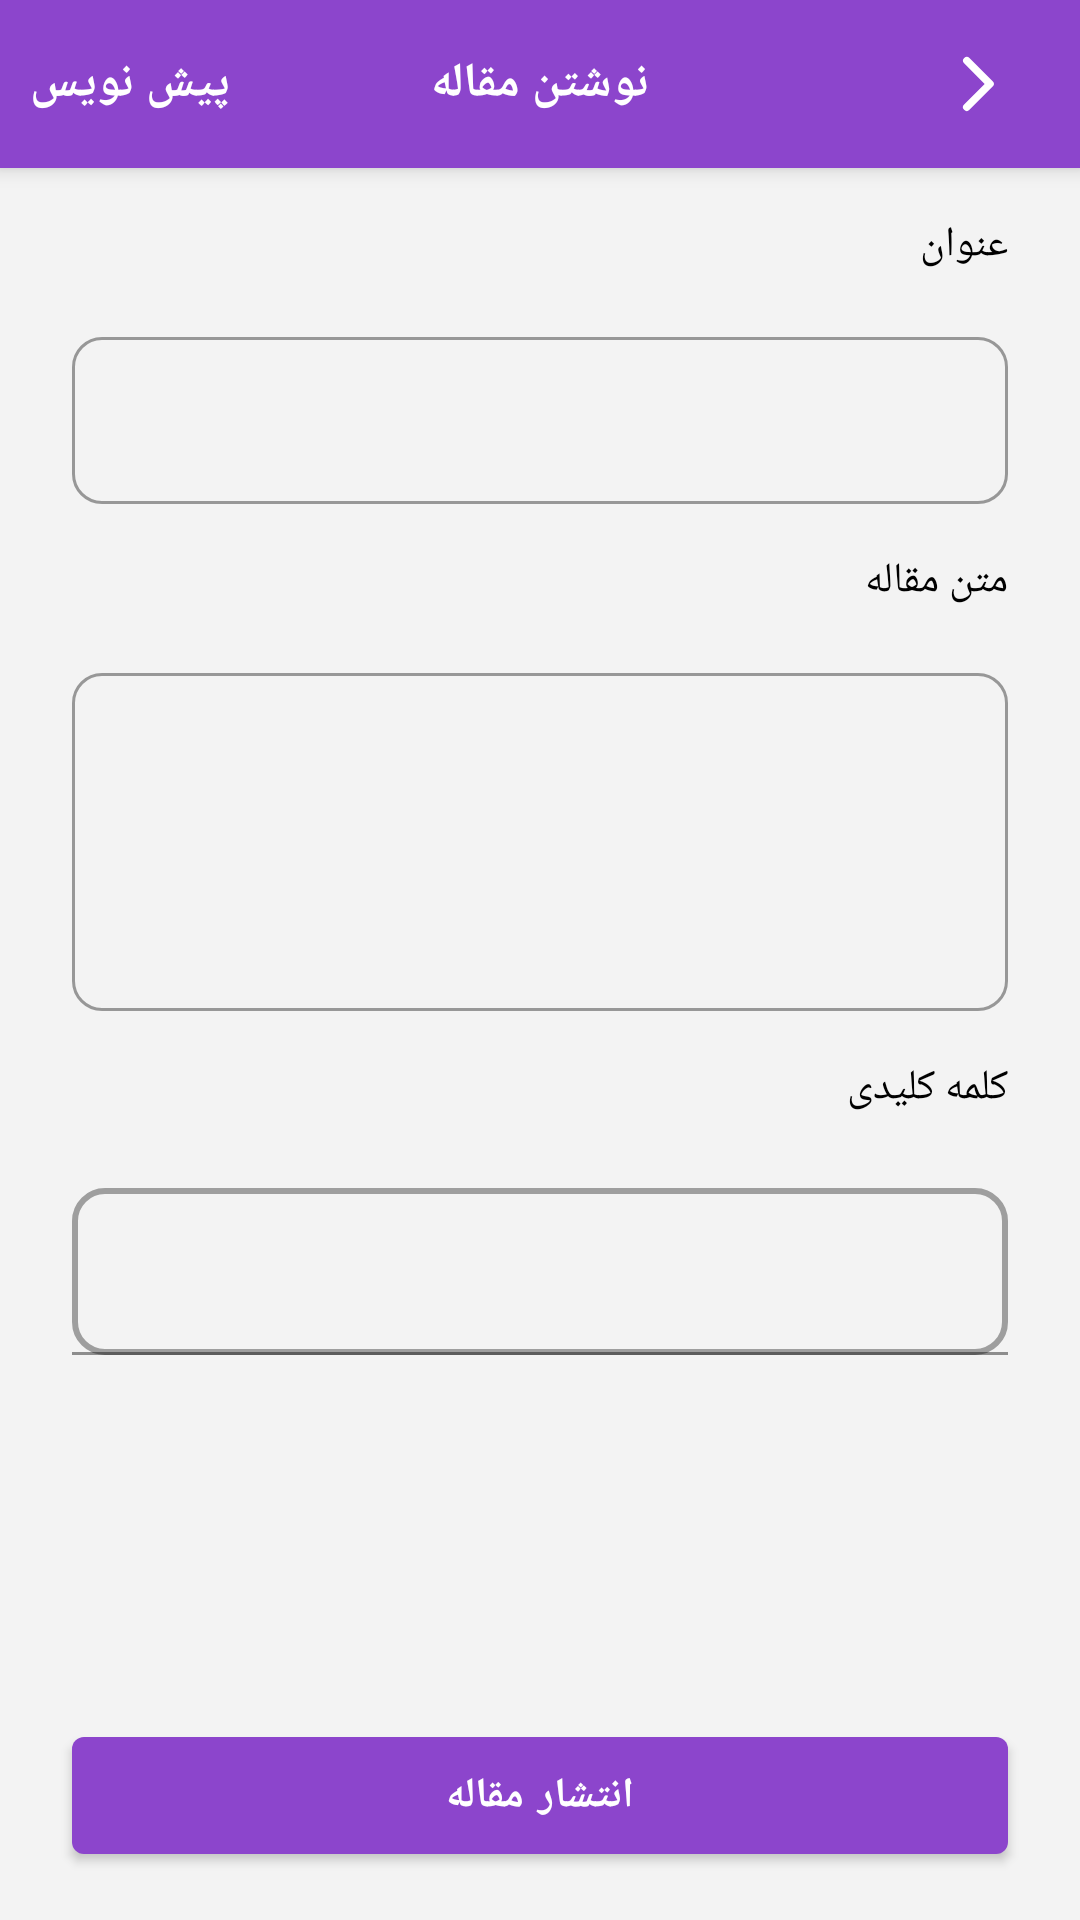

Where icons sit on this 1080 x 1920 app screen, as (x1, y1, x2, y2):
arrow right: (962, 56, 994, 111)
